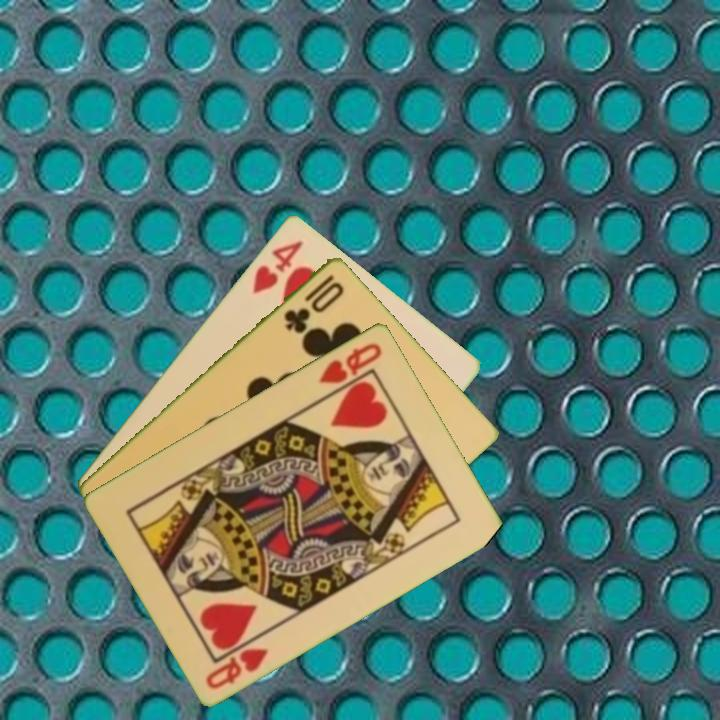10c: (280, 270, 347, 336)
4h: (248, 236, 306, 296)
Qh: (315, 338, 385, 387), (202, 644, 272, 692)
